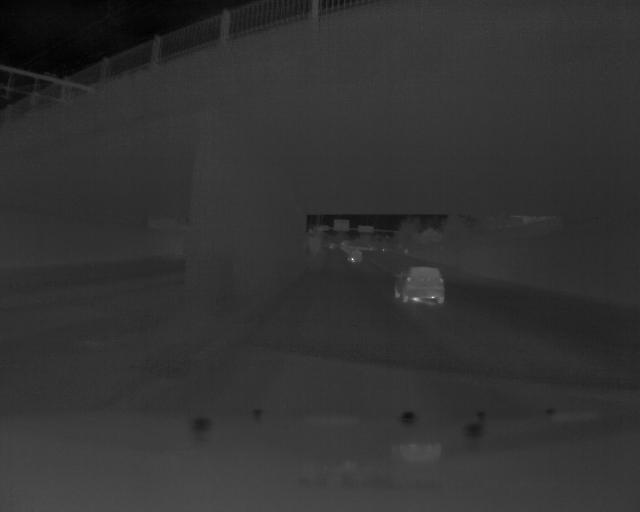car: (394, 262, 447, 306), (345, 246, 364, 265)
